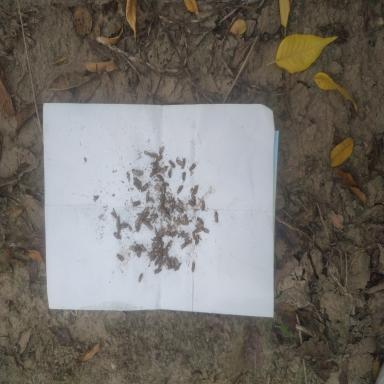pbw: (132, 174, 142, 185), (111, 208, 120, 220), (134, 215, 141, 228), (132, 198, 141, 208), (131, 168, 140, 178), (143, 192, 149, 207), (113, 231, 122, 240), (173, 262, 182, 271), (188, 161, 196, 171), (141, 182, 149, 192), (133, 180, 141, 190), (193, 184, 200, 195), (177, 230, 185, 239), (125, 171, 130, 185), (176, 185, 183, 195), (143, 210, 150, 220), (115, 214, 120, 228), (167, 167, 173, 178), (214, 210, 219, 223), (155, 154, 163, 162), (116, 253, 124, 261), (120, 220, 128, 228), (159, 166, 168, 173), (149, 152, 158, 159), (169, 256, 176, 265), (194, 222, 204, 228), (165, 255, 171, 265), (150, 211, 158, 218), (142, 208, 149, 216), (154, 257, 161, 265), (176, 159, 184, 166), (196, 217, 204, 224), (184, 214, 189, 225), (191, 261, 196, 272), (153, 268, 162, 274), (169, 160, 175, 169), (167, 238, 173, 247), (195, 233, 199, 246), (138, 273, 143, 283), (191, 192, 196, 202), (150, 162, 160, 167), (155, 183, 162, 190), (139, 244, 146, 251), (157, 174, 164, 181), (157, 251, 163, 259), (202, 228, 210, 234), (142, 220, 150, 226), (149, 169, 155, 177), (174, 257, 179, 266), (129, 246, 138, 251), (117, 224, 121, 235), (154, 226, 158, 237), (176, 205, 182, 212), (166, 213, 172, 220), (178, 201, 184, 208), (150, 255, 156, 262), (188, 200, 195, 206), (147, 224, 153, 231), (170, 231, 177, 237), (181, 159, 185, 169), (151, 243, 159, 248), (158, 260, 163, 268), (180, 243, 188, 248), (169, 206, 174, 214), (201, 200, 205, 210), (159, 146, 164, 154), (160, 204, 164, 214), (194, 228, 202, 233), (152, 247, 160, 252), (192, 231, 196, 240), (158, 228, 164, 234), (182, 232, 188, 238), (137, 249, 141, 258), (184, 239, 191, 244), (135, 170, 143, 174), (144, 218, 152, 222), (144, 150, 150, 155), (149, 198, 154, 204), (156, 166, 161, 172), (168, 265, 174, 270), (164, 246, 167, 256), (158, 233, 164, 238), (159, 202, 163, 209), (162, 182, 169, 186), (182, 172, 185, 181), (162, 186, 165, 195), (160, 244, 163, 253), (165, 231, 171, 235), (135, 213, 143, 216), (152, 166, 157, 170), (170, 197, 174, 202), (158, 241, 164, 244), (161, 210, 166, 213), (172, 201, 174, 208)
